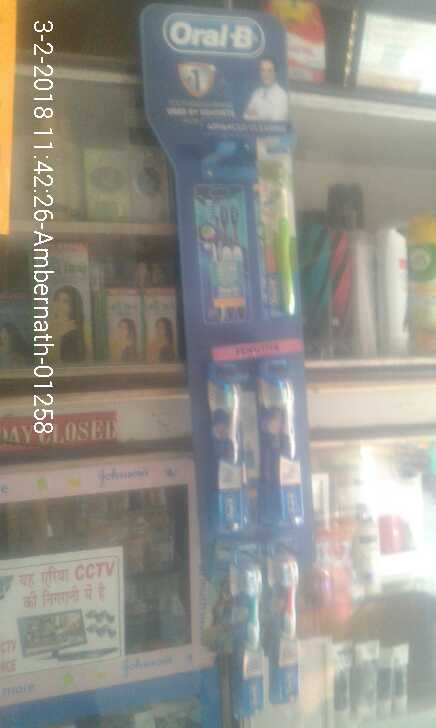oralb: (250, 125, 310, 339), (211, 369, 256, 550), (260, 369, 307, 527), (270, 542, 308, 700), (237, 554, 267, 712)
